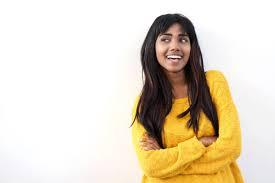Human: (130, 6, 240, 178)
